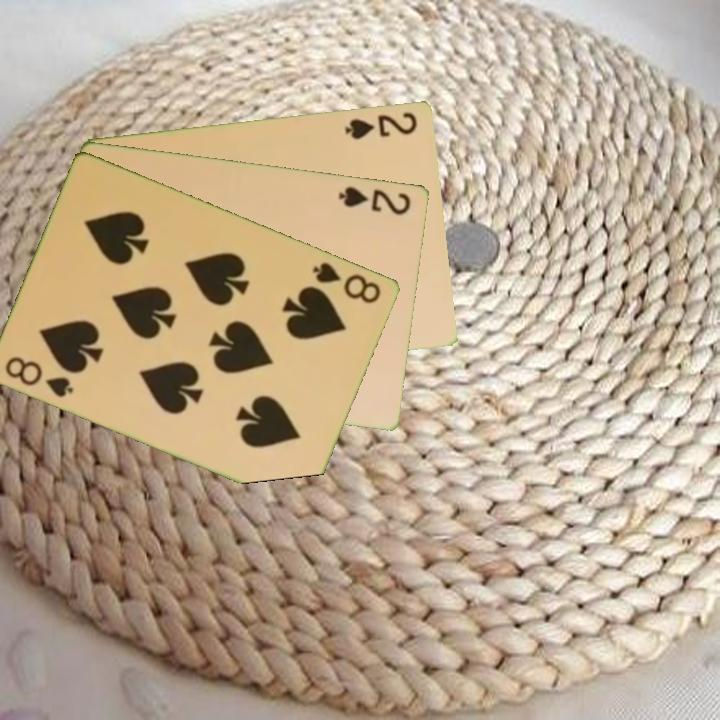2s: (335, 182, 414, 218), (342, 108, 421, 142)
8s: (309, 258, 384, 306), (2, 352, 77, 400)
